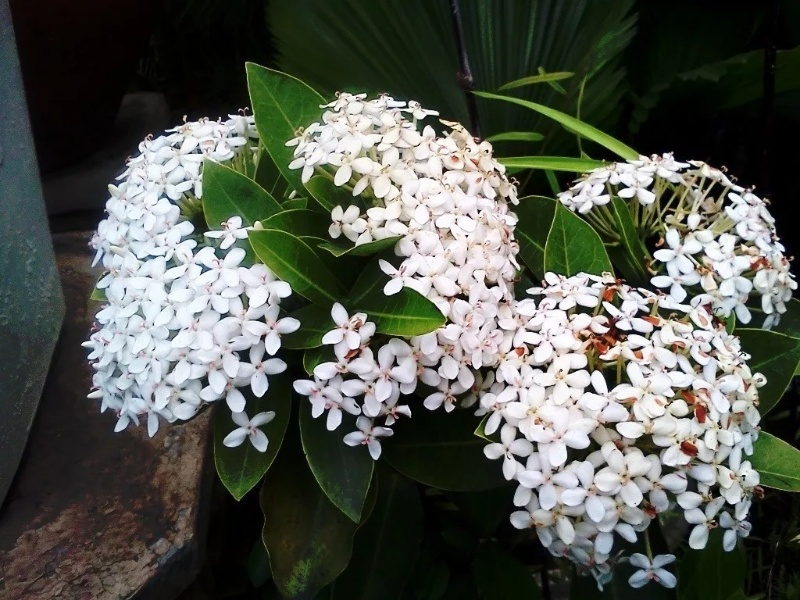Ixora: (71, 82, 530, 468), (485, 254, 775, 593), (542, 117, 800, 336)
